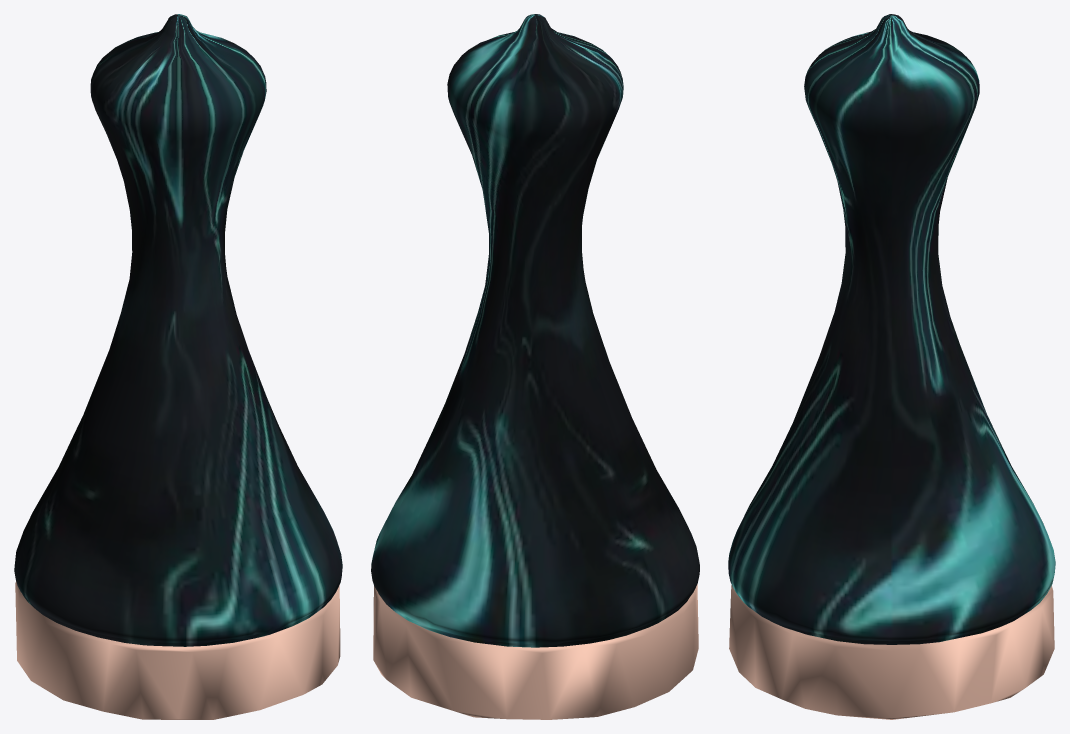
Rendered from dama_cerna.glb.
3 renders of one model, left to right at view 1: azimuth 30°, elevation 25°; view 2: azimuth 150°, elevation 25°; view 3: azimuth 270°, elevation 25°, orthographic.
Visible parts, largest first — view 1: dama_cerna; view 2: dama_cerna; view 3: dama_cerna.
Boxes of the visible parts, x1,y1,x2,y2 form: dama_cerna: (14,14,342,719); dama_cerna: (371,14,699,719); dama_cerna: (728,14,1055,719).
Bounding box in the file's own units: 0.0584 × 0.1253 × 0.0583.
Materials: 2 (1 with a texture image).
